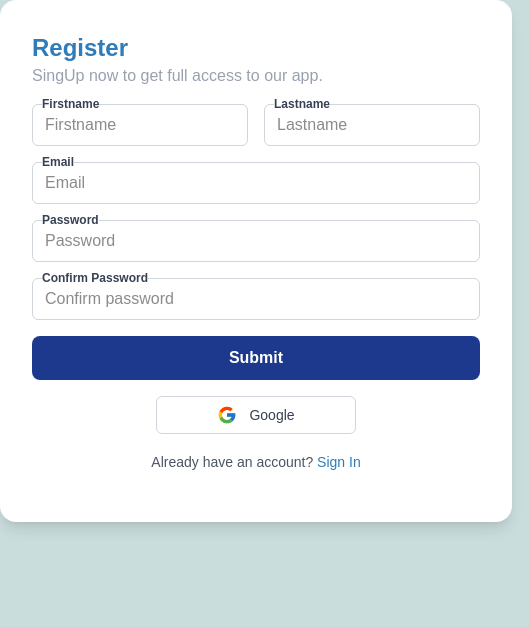
Scenario: RegisterForm › muestra errores de validación si se envía vacío
Step 1. Click the button "Submit" → (256, 358), box [32, 336, 480, 380]
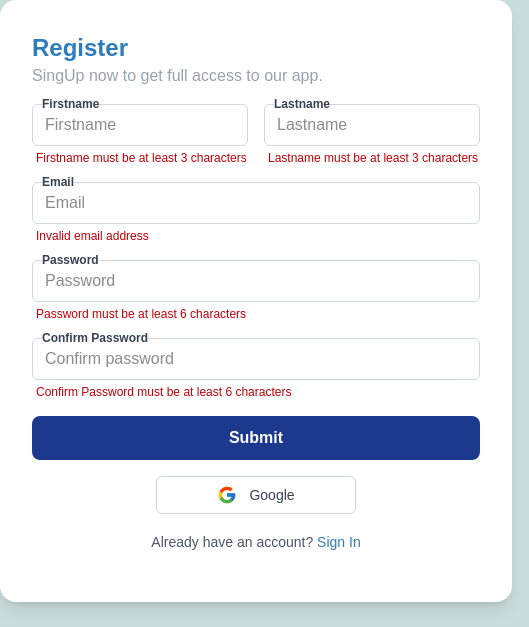
expect the text "Firstname must be at least 3 characters" is shown: met, box [36, 150, 248, 166]
expect the text "Lastname must be at least 3 characters" is shown: met, box [268, 150, 480, 166]
expect the text "Invalid email address" is shown: met, box [36, 229, 149, 243]
